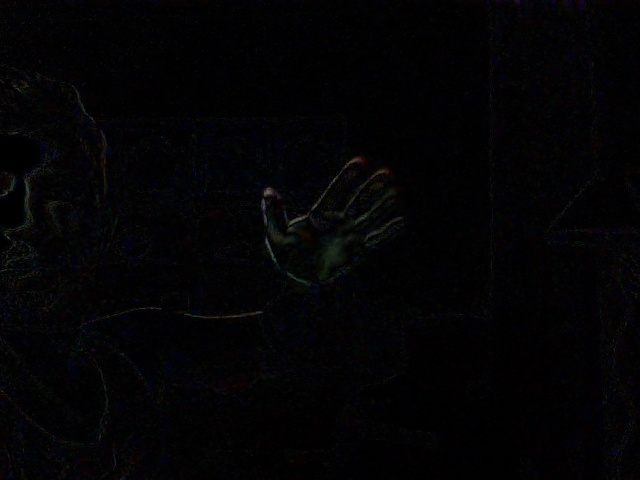hand_pa: (253, 129, 417, 298)
